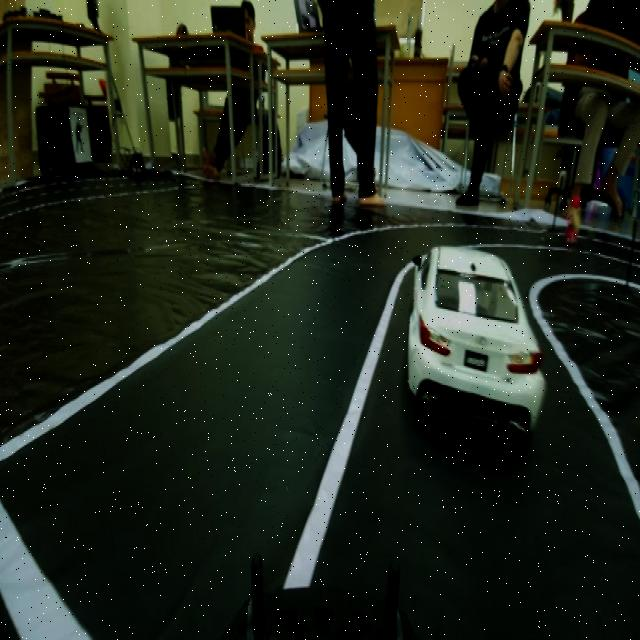car: (405, 219, 551, 432)
